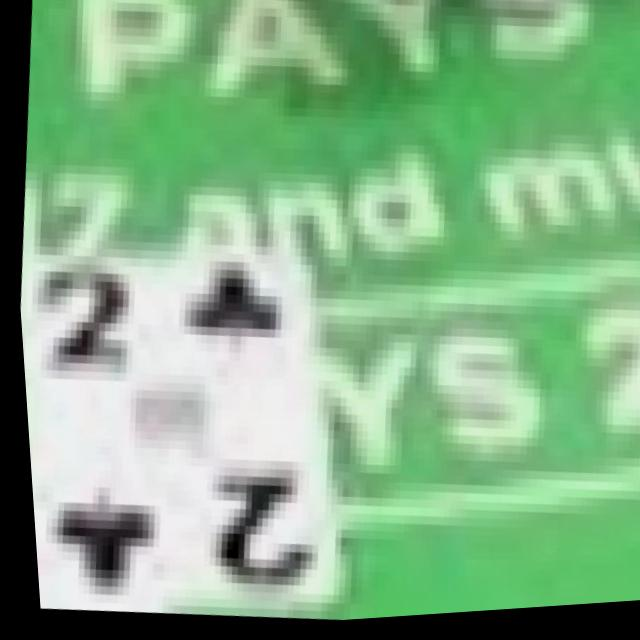Card-2: (21, 245, 328, 603)
